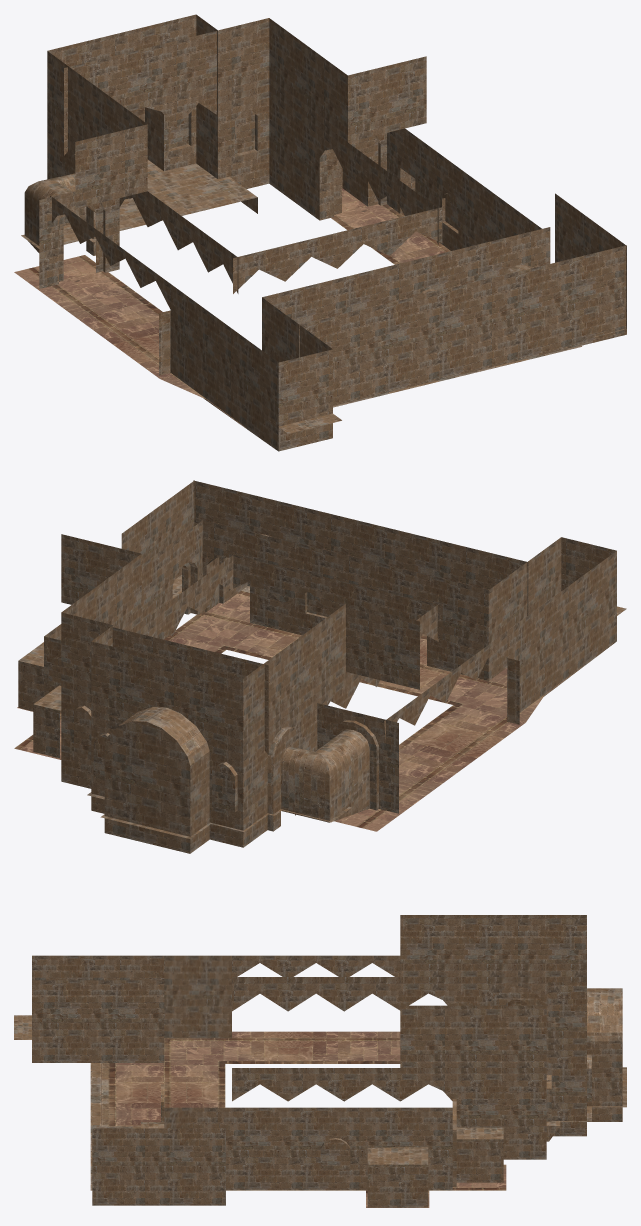
Rendered from show_build02.FBX.
3 views of the same model, one above another, from view 1: azimuth 30°, elevation 25°; view 2: azimuth 150°, elevation 25°; view 3: azimuth 270°, elevation 25° (orthographic). The views are drawn at different scales.
Visible parts, largest first — view 1: show_build02; view 2: show_build02; view 3: show_build02.
Boxes of the visible parts, x1=… form: show_build02: x1=14, y1=14, x2=626, y2=451; show_build02: x1=14, y1=480, x2=626, y2=853; show_build02: x1=14, y1=915, x2=626, y2=1207.
Size of the model in its own units: 2303 by 930 by 3320.
Materials: 1 (1 with a texture image).
